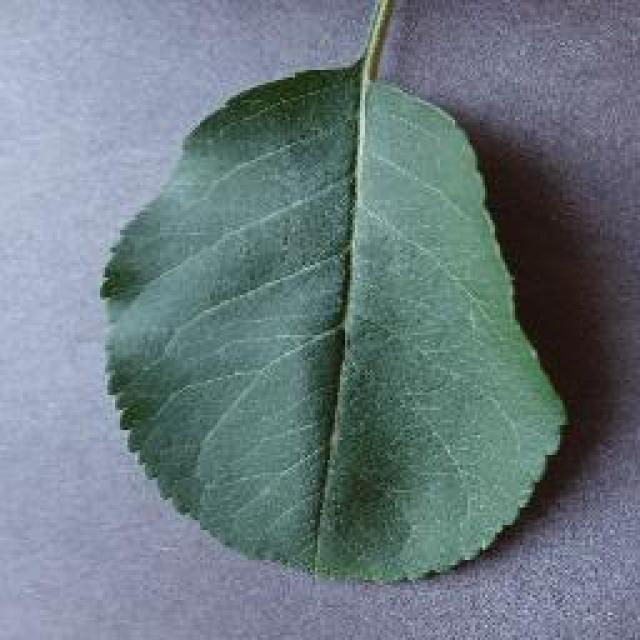apple healthy: (98, 0, 572, 585)
